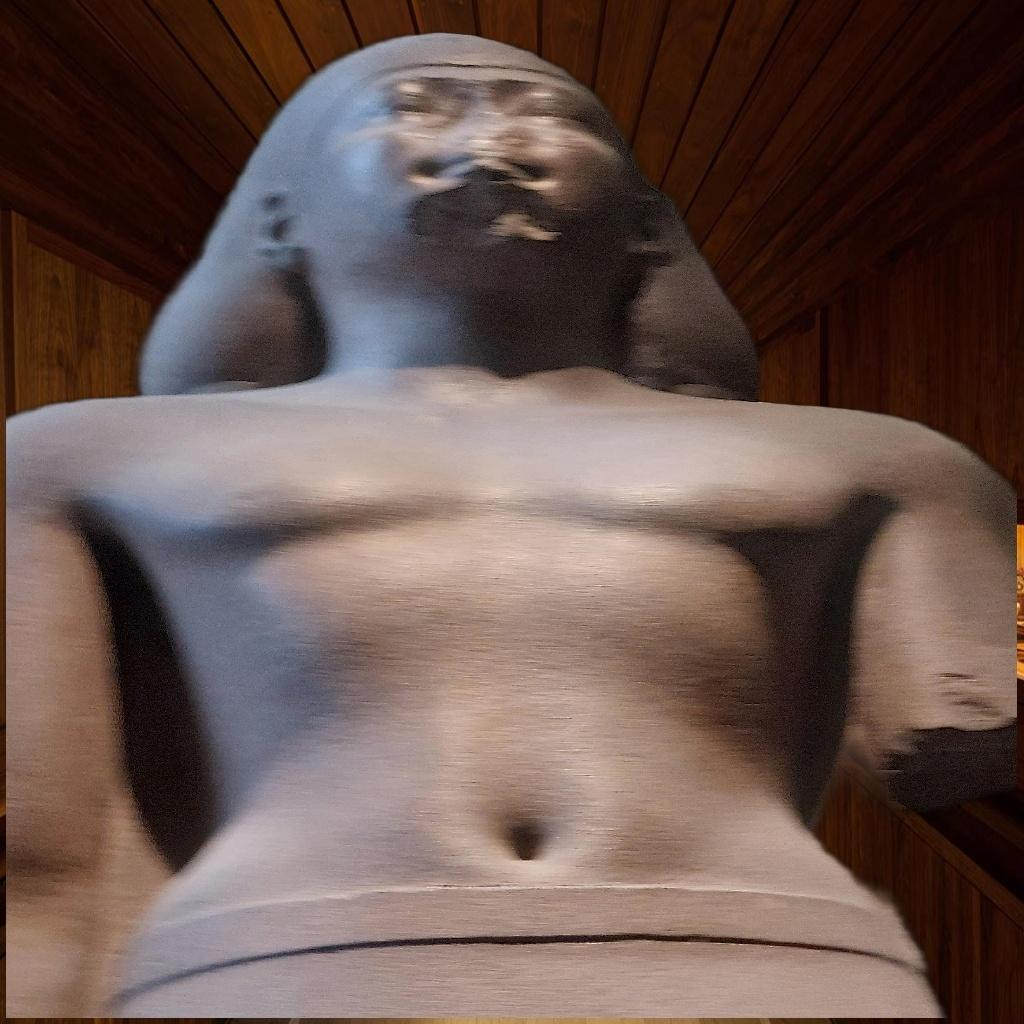Colossal Statue of Hormoheb: (6, 30, 1017, 1018)
